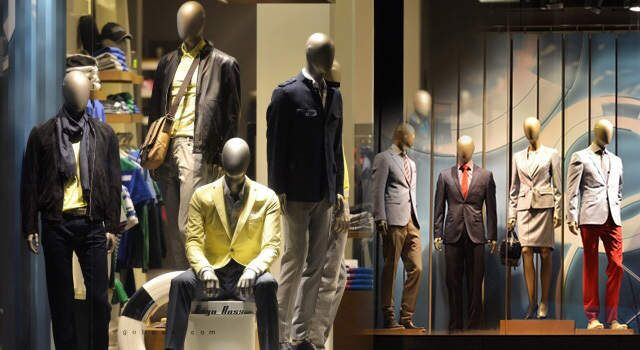person-like: (16, 66, 126, 349), (263, 28, 352, 350), (160, 133, 286, 350), (147, 1, 245, 272), (564, 117, 630, 334), (431, 132, 502, 330), (501, 114, 566, 322), (369, 119, 426, 334)
